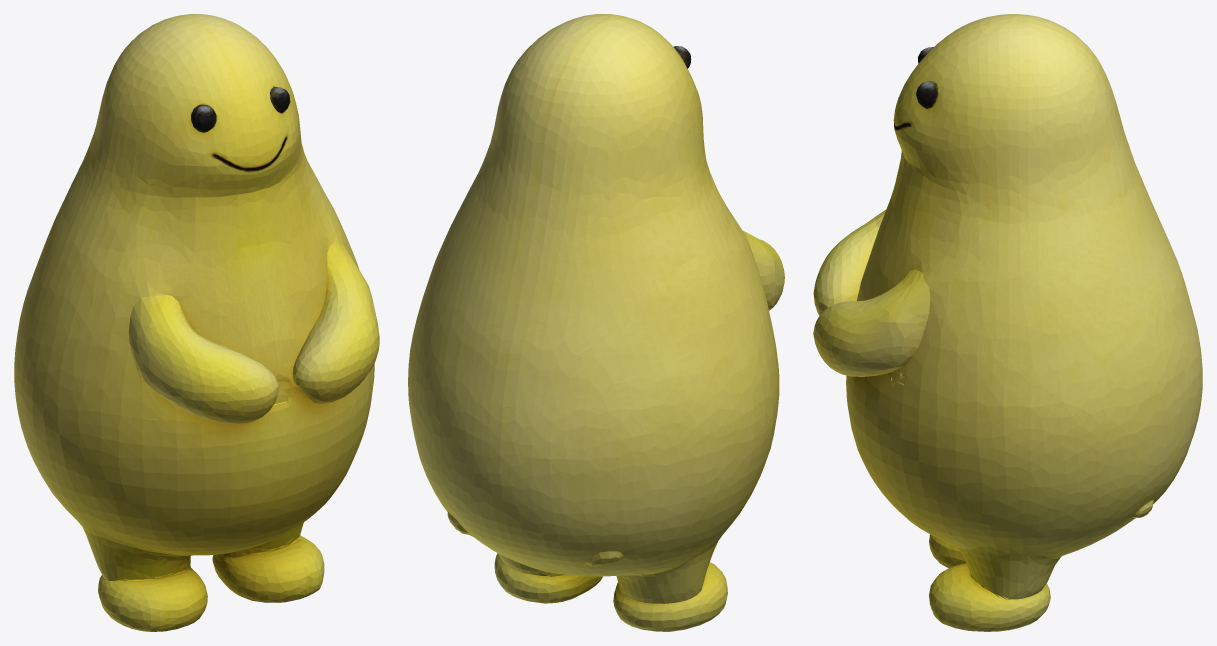
Rendered from frog.glb.
3 views of the same model, side by side, from view 1: azimuth 30°, elevation 25°; view 2: azimuth 150°, elevation 25°; view 3: azimuth 270°, elevation 25° (orthographic). The views are drawn at different scales.
Visible parts, largest first — view 1: geometry_0; view 2: geometry_0; view 3: geometry_0.
Part boxes in pixels (<box>): geometry_0: <box>14,14,379,631</box>; geometry_0: <box>408,14,784,631</box>; geometry_0: <box>813,14,1202,631</box>.
Size of the model in its own units: 0.0503 by 0.086 by 0.0536.
1 material, 1 textured.
